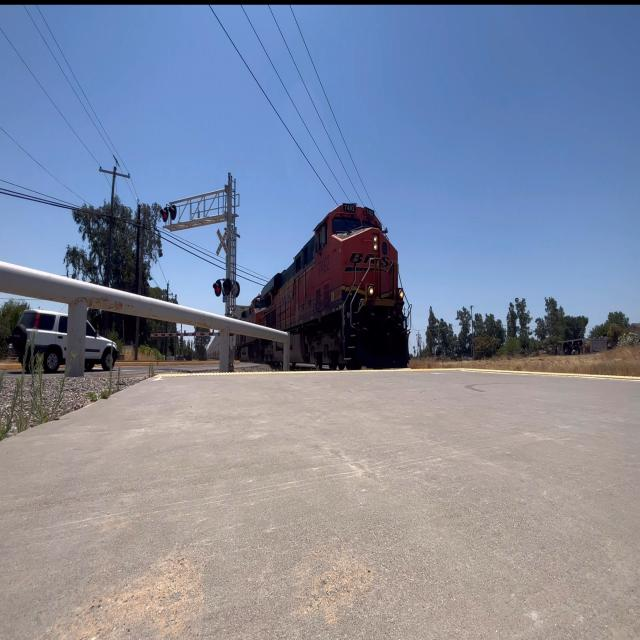locomotive: (259, 193, 408, 375)
